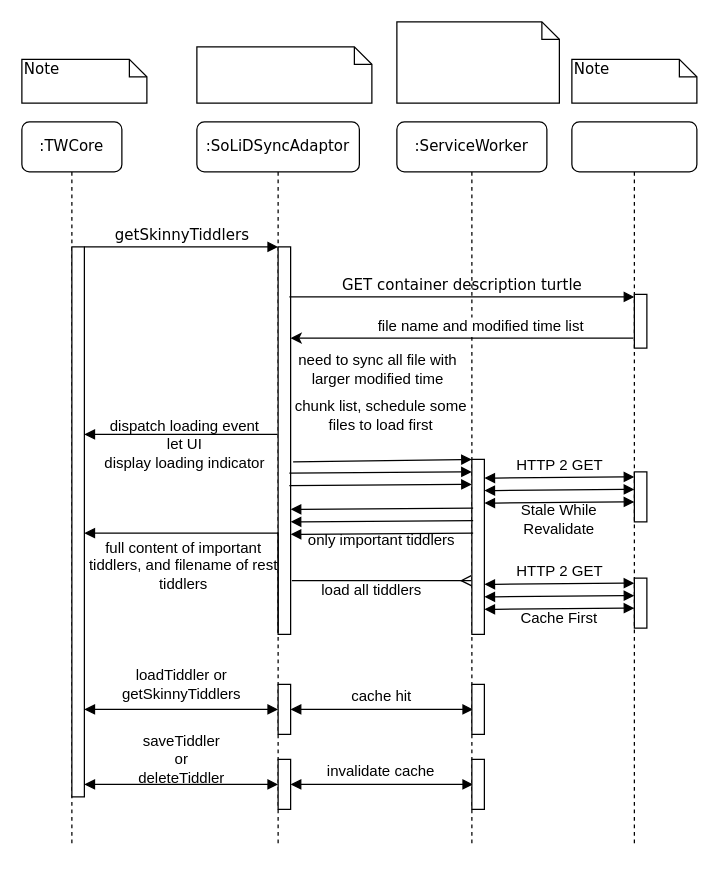
The diagram is 719 pixels wide and 869 high, and some of its shapes have lost their labels. The shapes that lost their labels are listed below. From the top down, each one's box as (x1, y1, x2, y2) in pixels, then its label:
(196, 46, 372, 103): After login, it knows your POD and folder containing tiddlers
(396, 21, 559, 103): SW cache seem to be umlimited, so prefer it instead of localstorage
(571, 121, 697, 847): :SoLiDPOD
